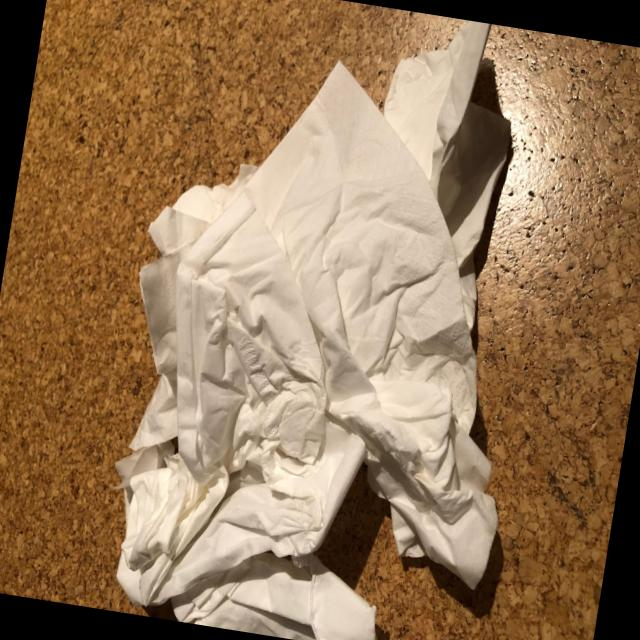organic waste: (148, 43, 577, 615), (106, 461, 417, 640), (364, 9, 536, 273), (104, 168, 224, 487)
